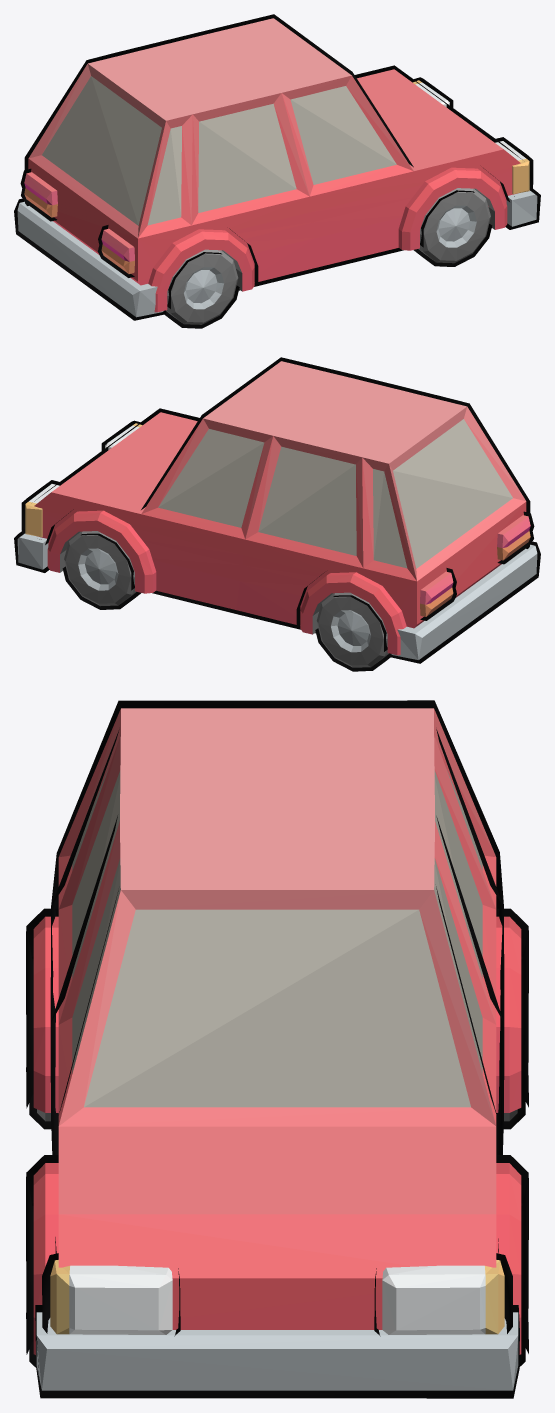
Rendered from BR_Auto_Klein.glb.
3 views of the same model, one above another, from view 1: azimuth 30°, elevation 25°; view 2: azimuth 150°, elevation 25°; view 3: azimuth 270°, elevation 25° (orthographic). The views are drawn at different scales.
Visible parts, largest first — view 1: BR_Auto_Klein_Mesh, BR_Auto_Klein_Outline; view 2: BR_Auto_Klein_Mesh, BR_Auto_Klein_Outline; view 3: BR_Auto_Klein_Mesh, BR_Auto_Klein_Outline.
Boxes of the visible parts, bbox=[...] form: BR_Auto_Klein_Mesh: bbox=[17, 18, 537, 324]; BR_Auto_Klein_Outline: bbox=[14, 14, 540, 328]; BR_Auto_Klein_Mesh: bbox=[17, 361, 537, 667]; BR_Auto_Klein_Outline: bbox=[14, 357, 540, 671]; BR_Auto_Klein_Mesh: bbox=[33, 708, 521, 1390]; BR_Auto_Klein_Outline: bbox=[26, 700, 528, 1398].
Bounding box in the file's own units: 3.53 × 1.65 × 1.86.
